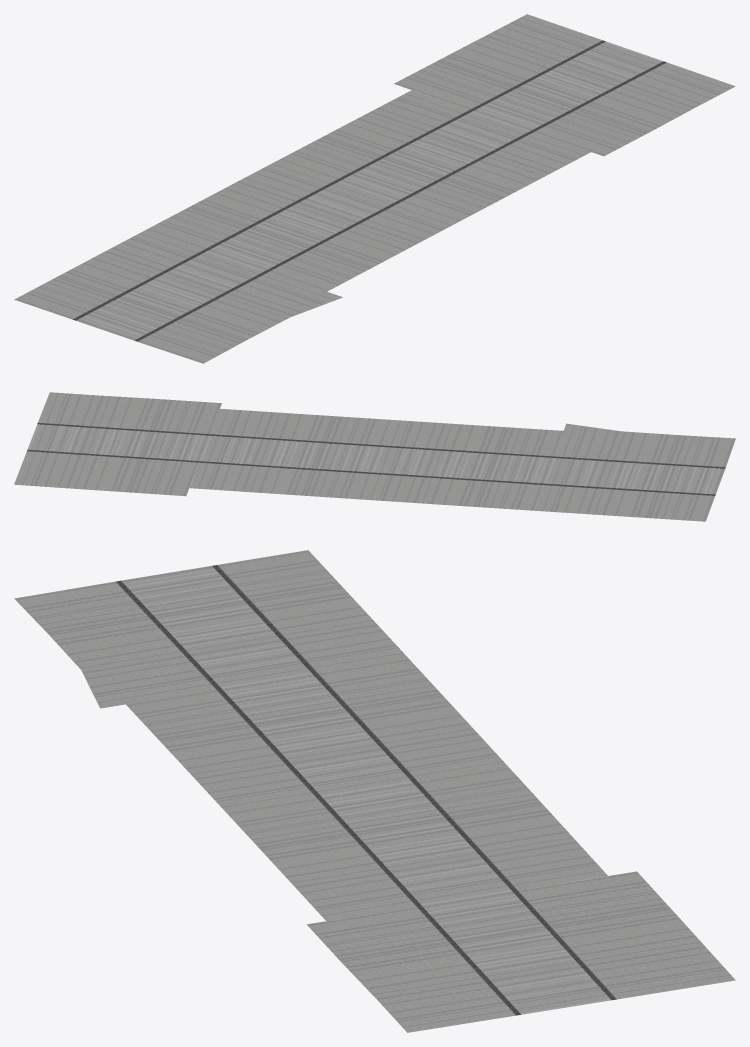
Rendered from KT_transition_A.FBX.
The picture shows the model from 3 angles, top to bottom: view 1: azimuth 30°, elevation 25°; view 2: azimuth 150°, elevation 25°; view 3: azimuth 270°, elevation 25°; orthographic projection. The views are drawn at different scales.
Parts seen in each view (by area): view 1: Side_C_var_103, Side_B_var_103, Side_A_var_103, Side_A_var_104, Side_B_var_104, Side_C_var_108, Side_C_var_102, Side_B_var_110, Side_A_var_110, Side_A_var_109, Side_B_var_109, Side_C_var_109 (+24 smaller); view 2: Side_B_var_103, Side_C_var_103, Side_A_var_103, Side_A_var_104, Side_B_var_104, Side_C_var_102, Side_C_var_108, Side_B_var_110, Side_A_var_110, Side_A_var_109, Side_C_var_109, KT_A_var_054 (+32 smaller); view 3: Side_A_var_103, Side_B_var_103, Side_C_var_103, Side_A_var_104, Side_B_var_104, Side_C_var_108, Side_C_var_102, Side_B_var_110, Side_A_var_110, Side_A_var_109, KT_A_var_054, Side_B_var_109 (+24 smaller).
Boxes of the visible parts, x1,y1,x2,y2 form: Side_C_var_103: (483,14,602,63); Side_B_var_103: (438,37,557,86); Side_A_var_103: (394,60,513,109); Side_A_var_104: (534,109,647,156); Side_B_var_104: (579,86,691,132); Side_C_var_108: (225,272,342,317); Side_C_var_102: (623,62,735,109); Side_B_var_110: (181,295,289,340); Side_A_var_110: (138,318,245,363); Side_A_var_109: (14,276,115,319); Side_B_var_109: (58,253,159,295); Side_C_var_109: (102,230,203,272); Side_B_var_103: (71,455,141,492); Side_C_var_103: (14,451,84,488); Side_A_var_103: (129,459,198,496); Side_A_var_104: (153,399,221,433); Side_B_var_104: (95,396,164,430); Side_C_var_102: (38,392,106,426); Side_C_var_108: (554,423,621,459); Side_B_var_110: (611,431,678,463); Side_A_var_110: (669,435,735,467); Side_A_var_109: (648,492,714,521); Side_C_var_109: (534,485,600,514); KT_A_var_054: (658,465,724,494); Side_A_var_103: (518,871,669,926); Side_B_var_103: (551,907,702,962); Side_C_var_103: (584,944,735,999); Side_A_var_104: (307,907,449,960); Side_B_var_104: (340,943,482,996); Side_C_var_108: (81,653,215,708); Side_C_var_102: (374,979,515,1032); Side_B_var_110: (48,617,182,669); Side_A_var_110: (14,581,148,633); Side_A_var_109: (218,550,341,600); KT_A_var_054: (121,566,244,616); Side_B_var_109: (251,586,374,636).
Bounding box in the file's own units: 5796 × 2.24e-13 × 3663.
Materials: 7 (7 with a texture image).
